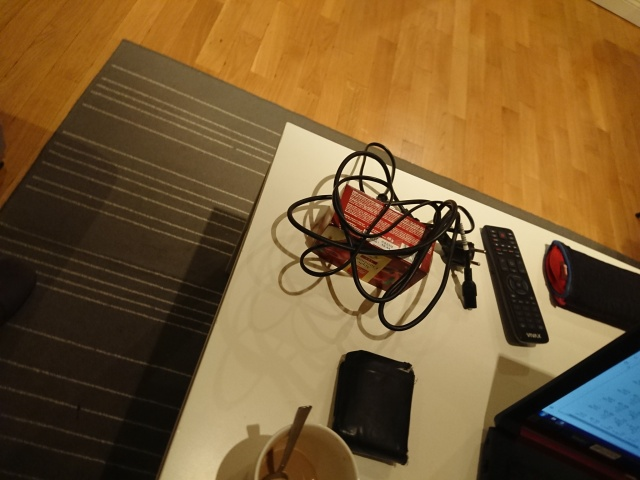Franck Apple Cinnamon Tea 60g: (308, 180, 439, 298)
